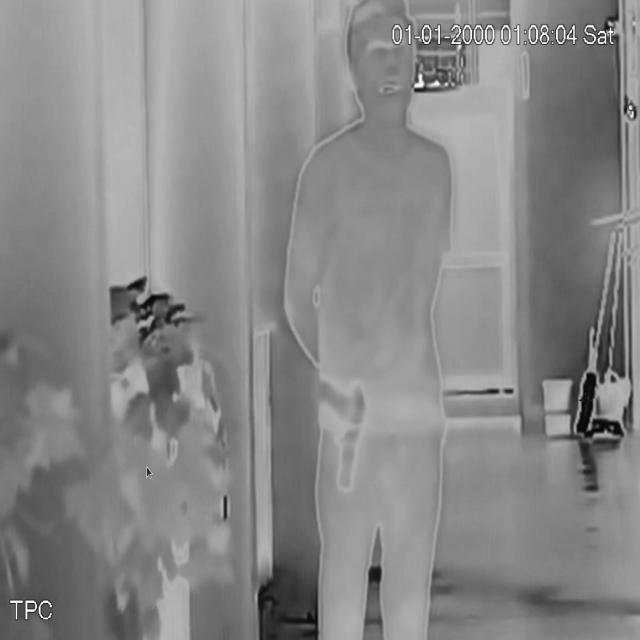Weapon: (312, 367, 384, 509)
